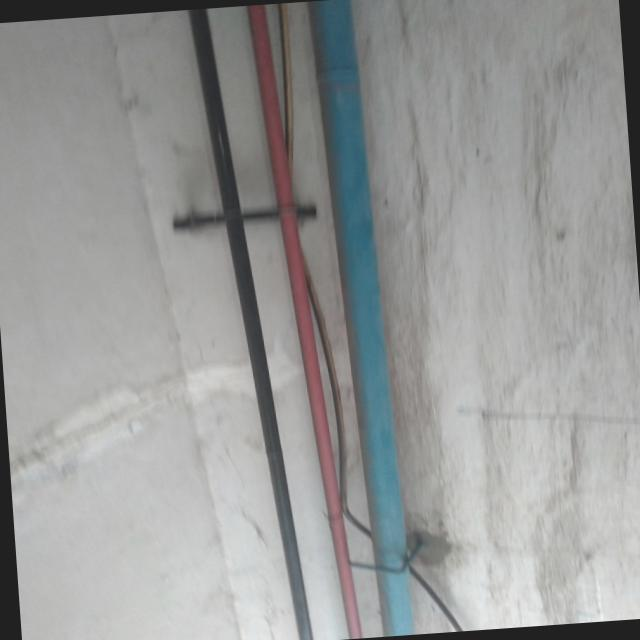gas: (188, 15, 313, 640), (246, 10, 359, 637), (311, 6, 409, 630)
